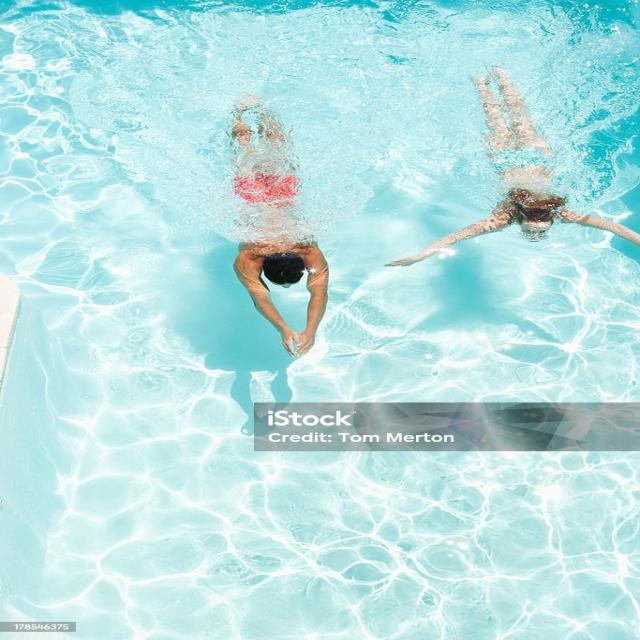swimming: (187, 92, 361, 389), (428, 59, 620, 300)
